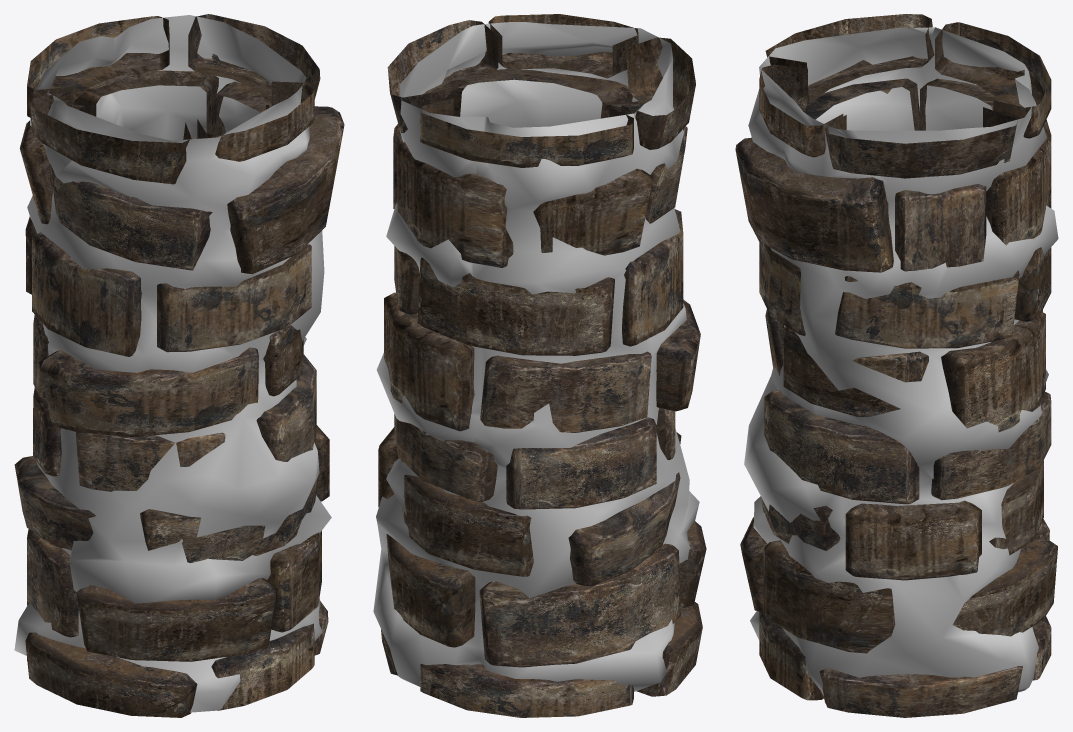
The model's file is taureg_pillar.dae.
3 views of the same model, side by side, from view 1: azimuth 30°, elevation 25°; view 2: azimuth 150°, elevation 25°; view 3: azimuth 270°, elevation 25° (orthographic).
Parts seen in each view (by area): view 1: LO__2___2_, wallmudLO; view 2: LO__2___2_, wallmudLO; view 3: LO__2___2_, wallmudLO.
Boxes of the visible parts, left/top/right/bottom form: LO__2___2_: left=14, top=14, right=344, bottom=717; wallmudLO: left=14, top=15, right=331, bottom=712; LO__2___2_: left=378, top=14, right=706, bottom=717; wallmudLO: left=373, top=22, right=699, bottom=691; LO__2___2_: left=735, top=14, right=1057, bottom=717; wallmudLO: left=744, top=27, right=1058, bottom=695.
Size of the model in its own units: 2.11 by 4.02 by 2.04.
